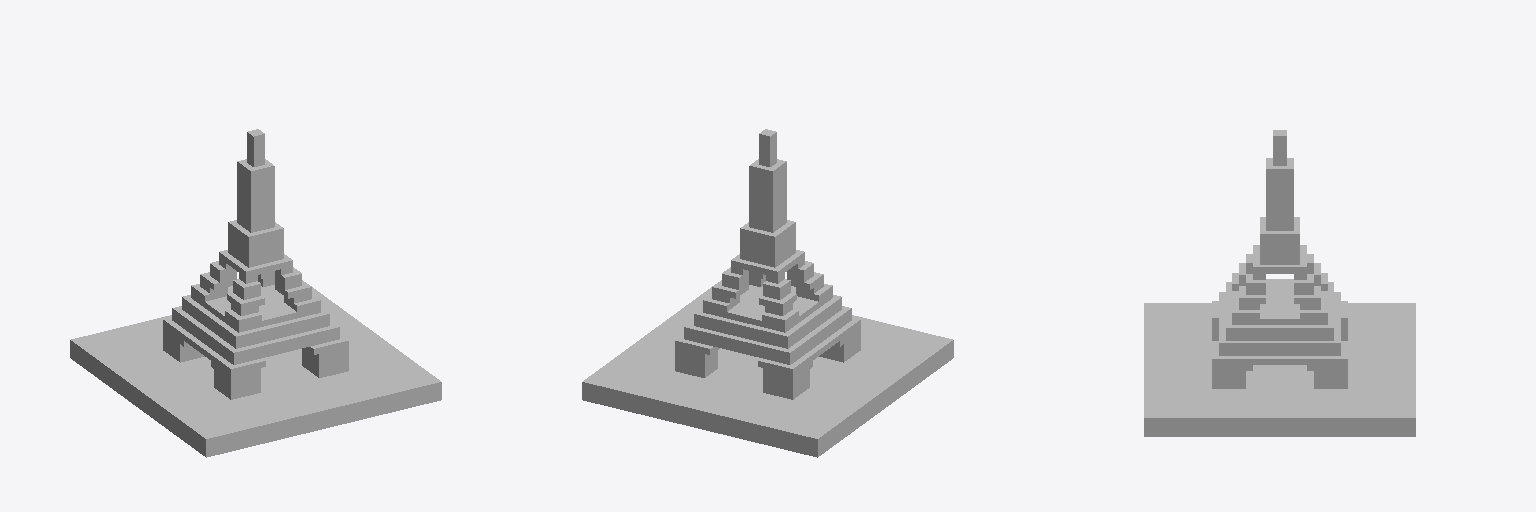
The model's file is Tour eiffel.obj.
3 views of the same model, side by side, from view 1: azimuth 30°, elevation 25°; view 2: azimuth 150°, elevation 25°; view 3: azimuth 270°, elevation 25° (orthographic).
Visible parts, largest first — view 1: object 1; view 2: object 1; view 3: object 1.
Boxes of the visible parts, x1=… form: object 1: x1=70, y1=129, x2=441, y2=457; object 1: x1=582, y1=129, x2=953, y2=457; object 1: x1=1144, y1=130, x2=1415, y2=436.
Bounding box in the file's own units: 4 × 4 × 4.